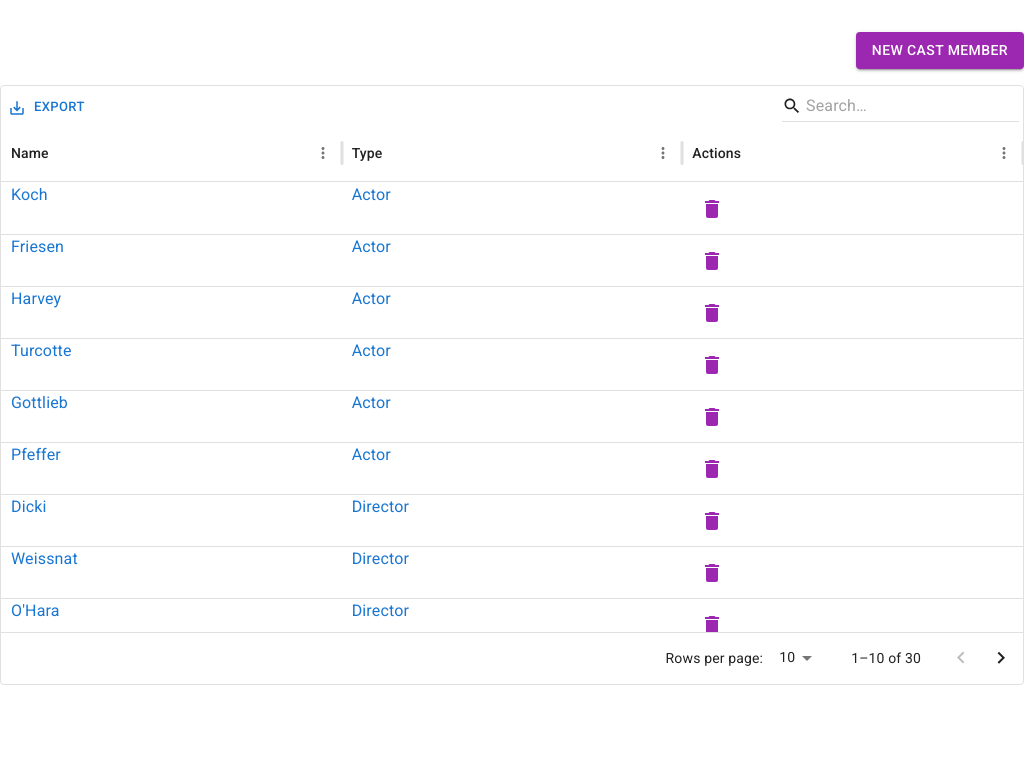
it: Test ListCastMember page › should handle delete cast member success
Expected: the text "Koch" is shown, [11,184,48,204]
Click the button with test id "delete-cast-member-button" in the row of "Koch". click: (712, 209)
box: [692,189,732,229]
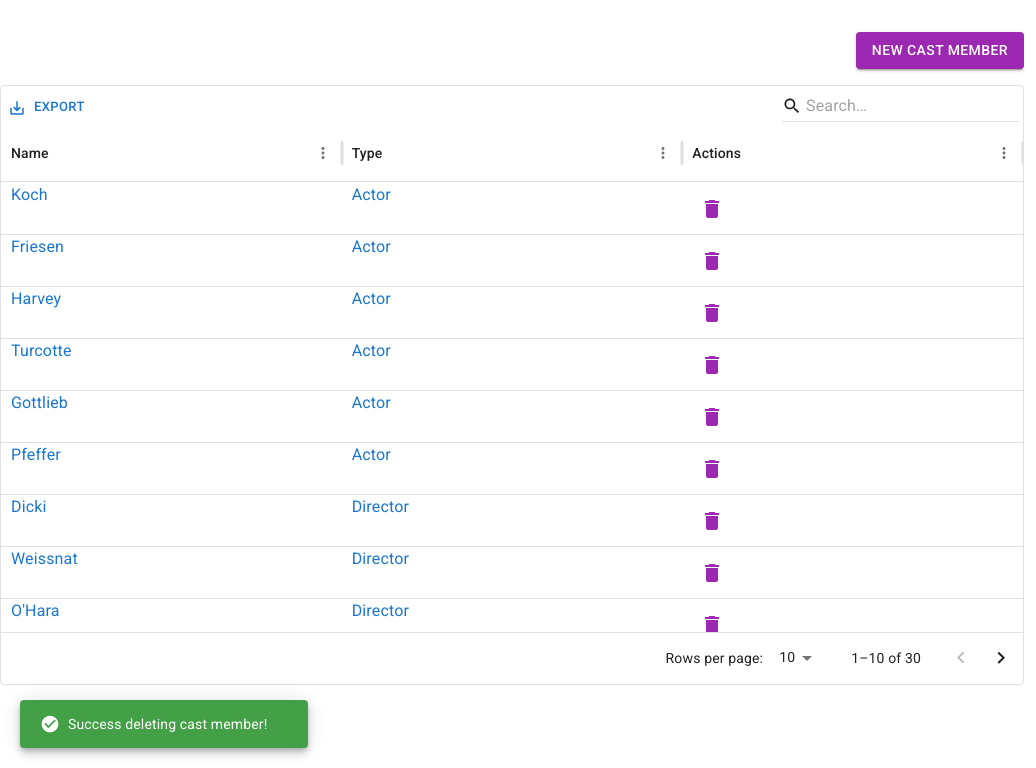
Result: the text "Success deleting cast member!" is shown at [40,714,267,734]
